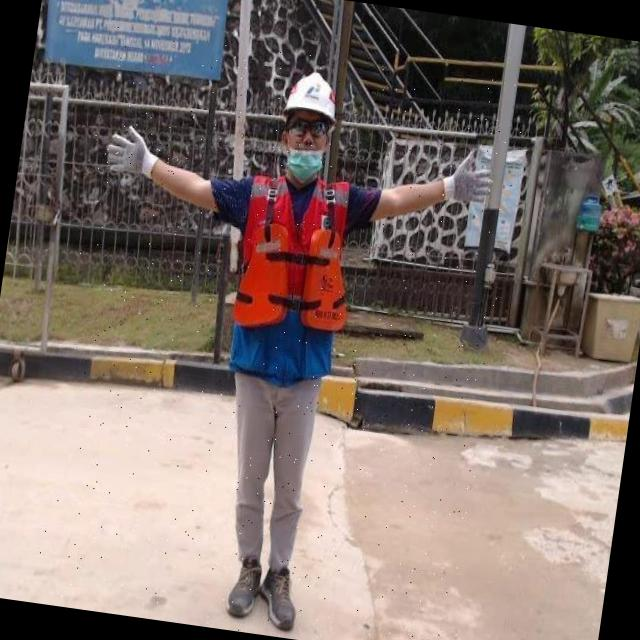hard_hat: (279, 60, 350, 140)
safety_vest: (224, 165, 377, 352)
vehicle: (28, 26, 530, 640)
work_boots: (252, 560, 312, 636), (220, 548, 269, 628)
